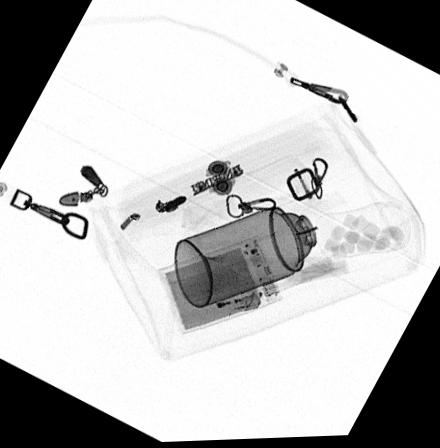Lighter: (194, 290, 261, 330)
Powerbank: (157, 235, 282, 334)
Sprayer: (172, 195, 341, 308)
